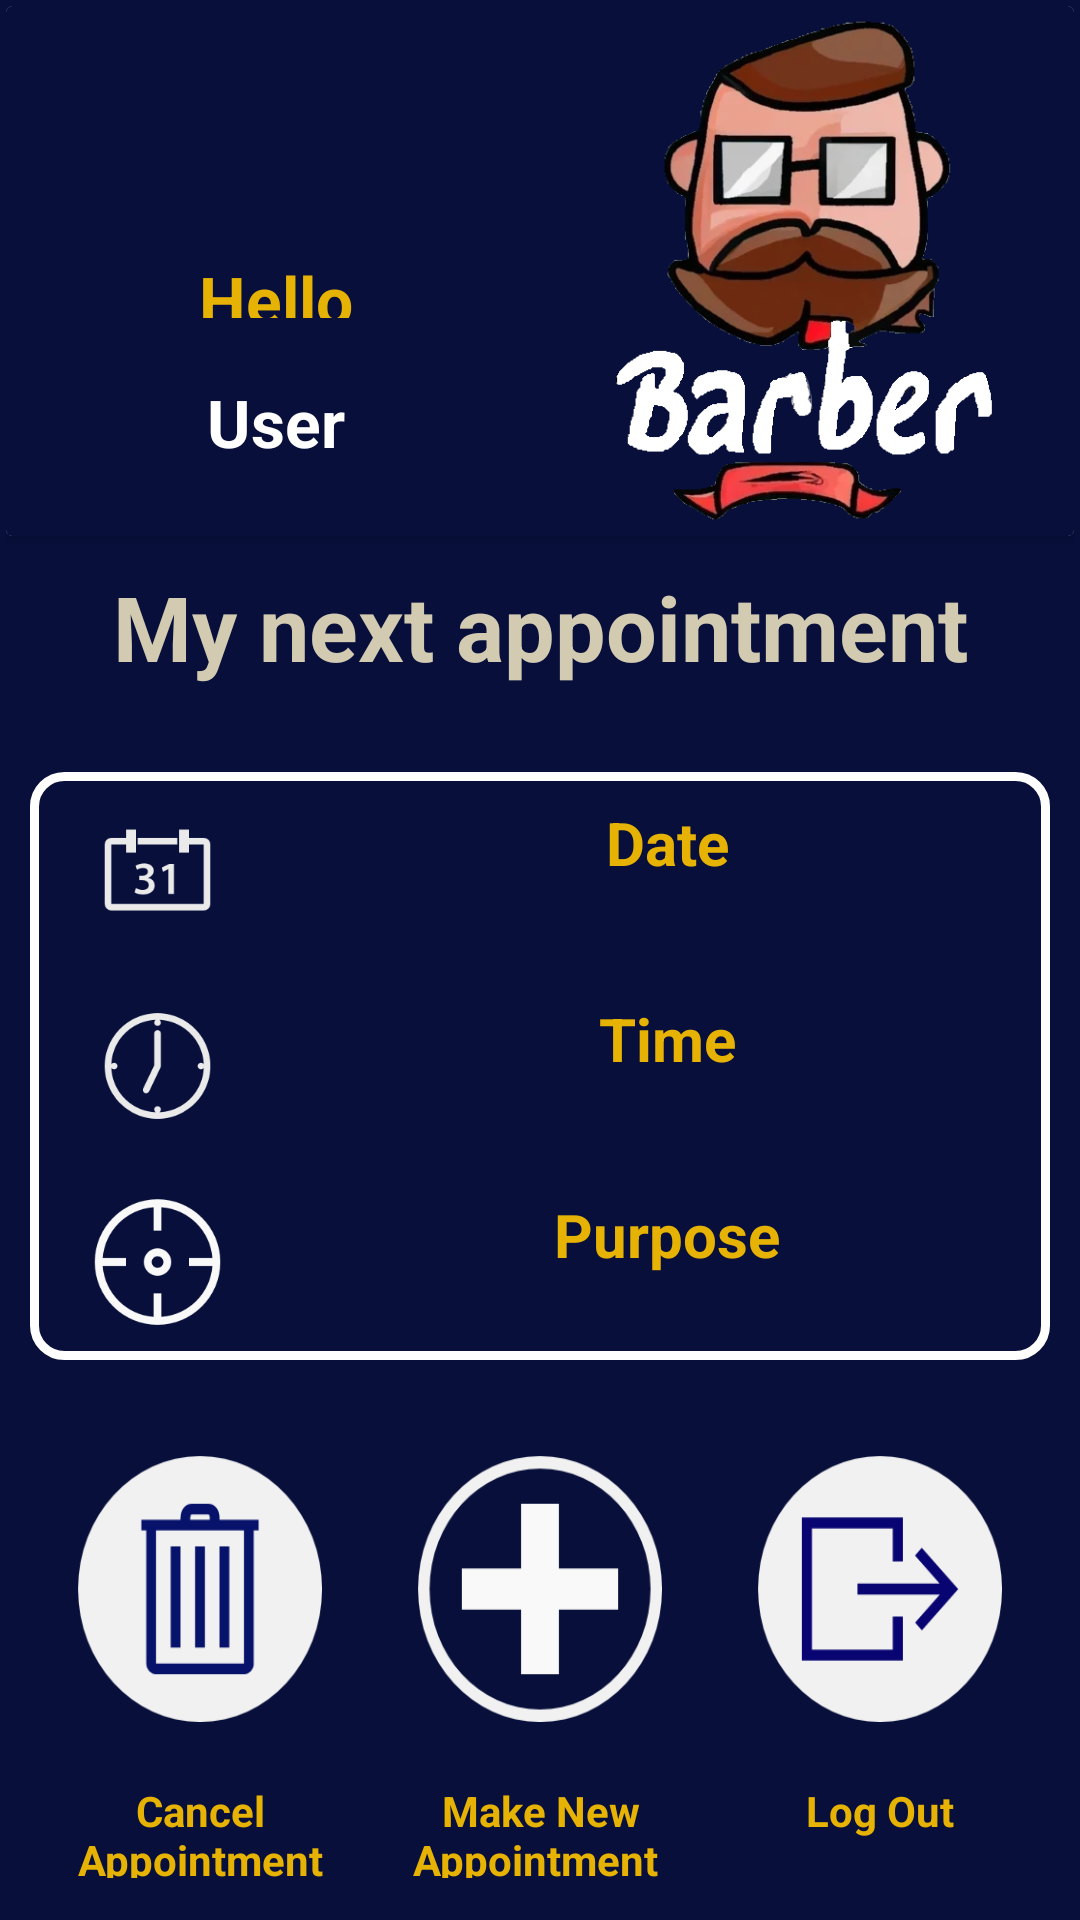

Point at icon controls on the screen. Image size 1080px x 1920px, points as [x,y].
mytarget: [157,1262]
trash canwb: [200,1589]
